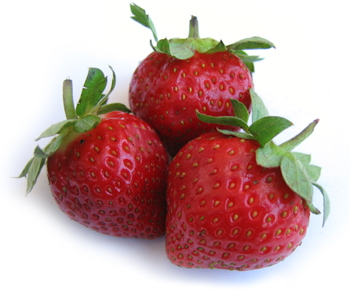strawberry: (163, 131, 306, 264), (47, 104, 166, 237), (131, 30, 254, 140)
